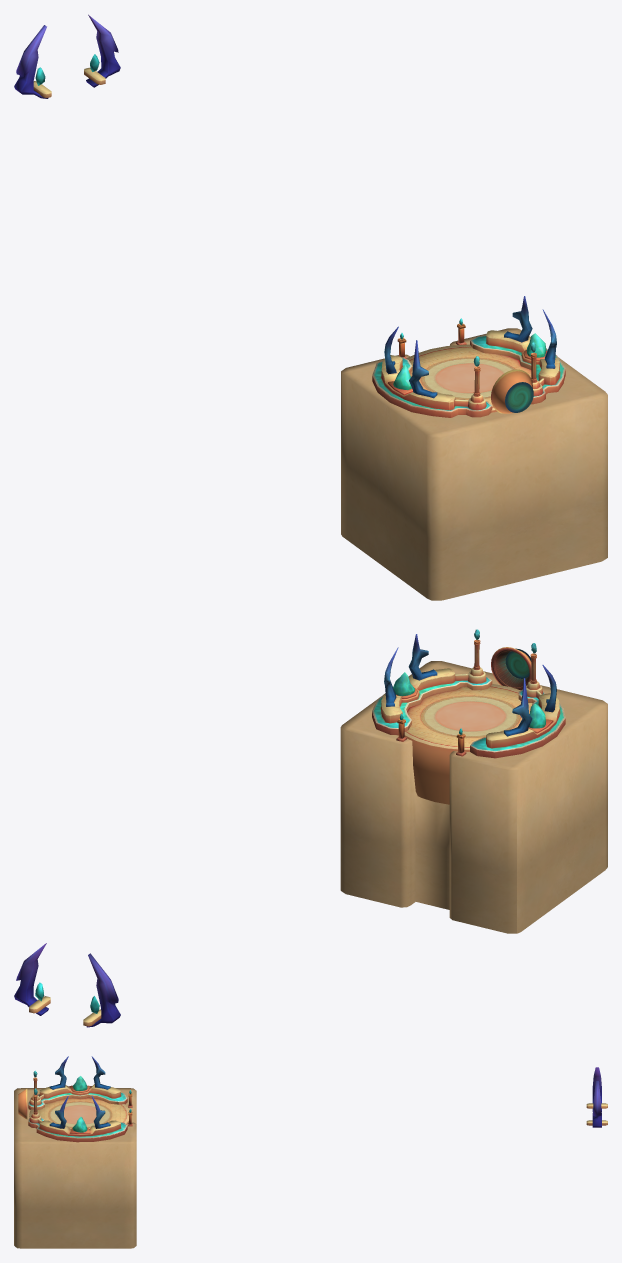
Rendered from GreatCity.FBX.
The picture shows the model from 3 angles, top to bottom: view 1: azimuth 30°, elevation 25°; view 2: azimuth 150°, elevation 25°; view 3: azimuth 270°, elevation 25°; orthographic projection. The views are drawn at different scales.
Parts seen in each view (by area): view 1: GreatCity_Landscape, GreatCity_Fence_R, GreatCity_Fence_L; view 2: GreatCity_Landscape, GreatCity_Fence_R, GreatCity_Fence_L; view 3: GreatCity_Landscape, GreatCity_Fence_L, GreatCity_Fence_R.
Boxes of the visible parts, x1=… form: GreatCity_Landscape: x1=341, y1=296, x2=607, y2=600; GreatCity_Fence_R: x1=14, y1=25, x2=51, y2=98; GreatCity_Fence_L: x1=84, y1=14, x2=120, y2=87; GreatCity_Landscape: x1=340, y1=629, x2=607, y2=933; GreatCity_Fence_R: x1=83, y1=953, x2=120, y2=1027; GreatCity_Fence_L: x1=14, y1=943, x2=50, y2=1015; GreatCity_Landscape: x1=14, y1=1056, x2=136, y2=1248; GreatCity_Fence_L: x1=586, y1=1081, x2=607, y2=1127; GreatCity_Fence_R: x1=586, y1=1067, x2=607, y2=1111.
Size of the model in its own units: 25.42 by 30.99 by 114.
Materials: 1 (1 with a texture image).
